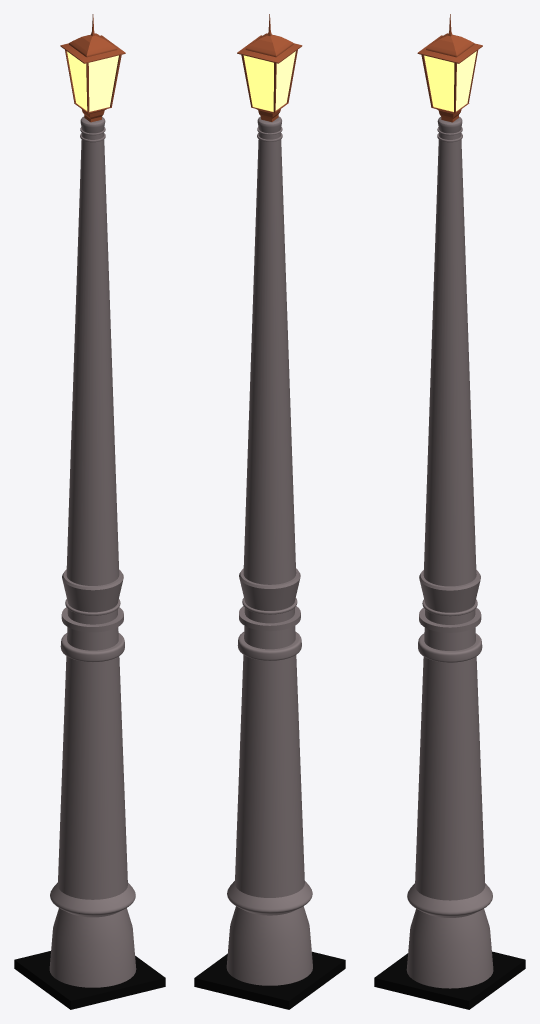
File: Lamp.fbx
The picture shows the model from 3 angles, left to right: view 1: azimuth 30°, elevation 25°; view 2: azimuth 150°, elevation 25°; view 3: azimuth 330°, elevation 25°; orthographic projection.
Visible parts, largest first — view 1: Cylinder285, Box040, Line029, Box043, Line032, Box042; view 2: Cylinder285, Box040, Line030, Box043, Line032, Box042; view 3: Cylinder285, Box040, Line029, Box043, Line031, Box042.
Boxes of the visible parts, x1,y1,x2,y2 form: Cylinder285: (49, 116, 136, 987); Box040: (14, 951, 165, 1009); Line029: (88, 55, 118, 111); Box043: (60, 14, 125, 63); Line032: (67, 51, 87, 110); Box042: (65, 50, 121, 112); Cylinder285: (226, 116, 312, 985); Box040: (194, 951, 345, 1009); Line030: (243, 55, 273, 111); Box043: (237, 14, 302, 63); Line032: (275, 51, 295, 110); Box042: (241, 50, 297, 112); Cylinder285: (406, 116, 493, 988); Box040: (374, 951, 525, 1009); Line029: (424, 55, 454, 111); Box043: (417, 14, 482, 63); Line031: (456, 51, 476, 111); Box042: (421, 50, 478, 112).
Size of the model in its own units: 145 by 1401 by 149.
